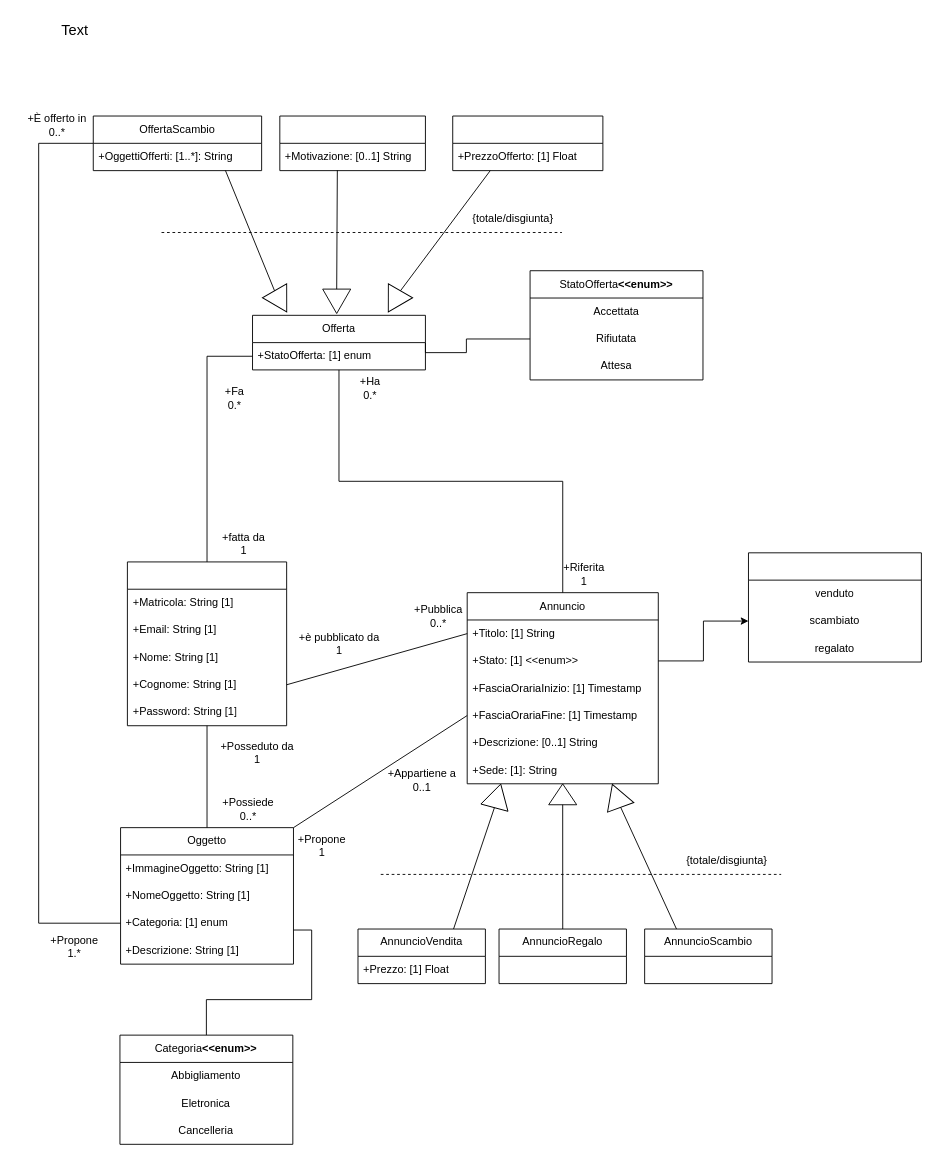
Image size: 937x1160. Some labels were removed from this diagram. The box of each missing label's shape, as (x1, y1, x2, y2) in pixels:
OffertaRegalo: (279, 115, 425, 171)
OffertaVendita: (452, 115, 603, 171)
StatoAnnuncio <<enum>>: (748, 552, 921, 662)
Studente: (126, 561, 287, 726)
